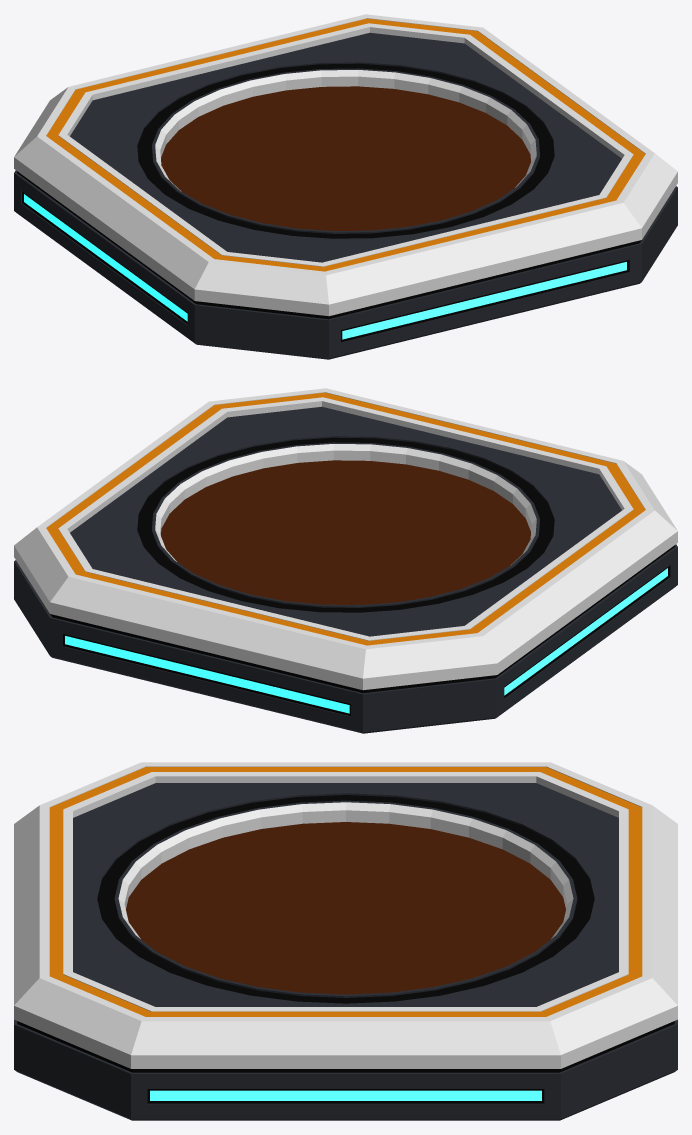
File: saksı.fbx
3 renders of one model, top to bottom at view 1: azimuth 30°, elevation 25°; view 2: azimuth 150°, elevation 25°; view 3: azimuth 270°, elevation 25°, orthographic. The views are drawn at different scales.
Parts seen in each view (by area): view 1: SM_Bio_Dome_Planter; view 2: SM_Bio_Dome_Planter; view 3: SM_Bio_Dome_Planter.
Part boxes in pixels (<box>): SM_Bio_Dome_Planter: <box>14,14,677,359</box>; SM_Bio_Dome_Planter: <box>14,388,677,733</box>; SM_Bio_Dome_Planter: <box>14,762,677,1120</box>.
Bounding box in the file's own units: 231 × 34.58 × 231.
